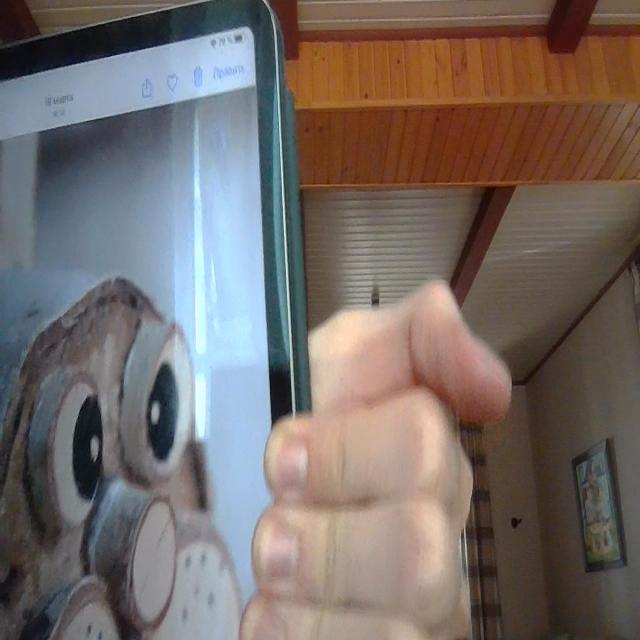device: (2, 21, 293, 640)
